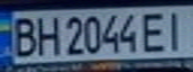0: (81, 12, 103, 55)
2: (60, 12, 84, 56)
4: (118, 10, 142, 54), (100, 11, 124, 54)
B: (6, 14, 39, 57)
E: (139, 8, 172, 54)
H: (33, 12, 60, 56)
I: (160, 7, 193, 52)
